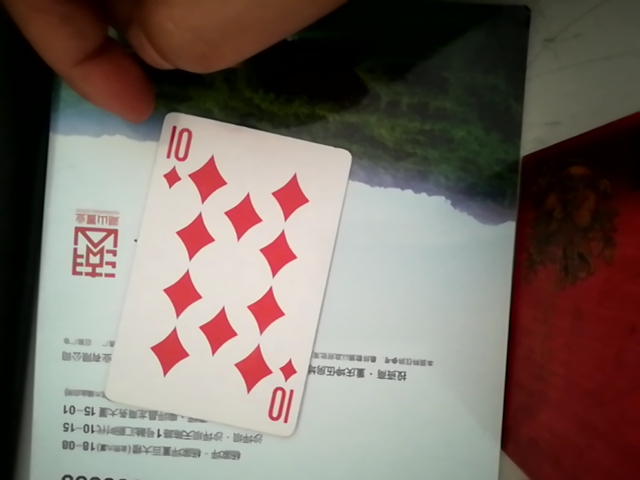fk 10: (106, 109, 345, 444)
